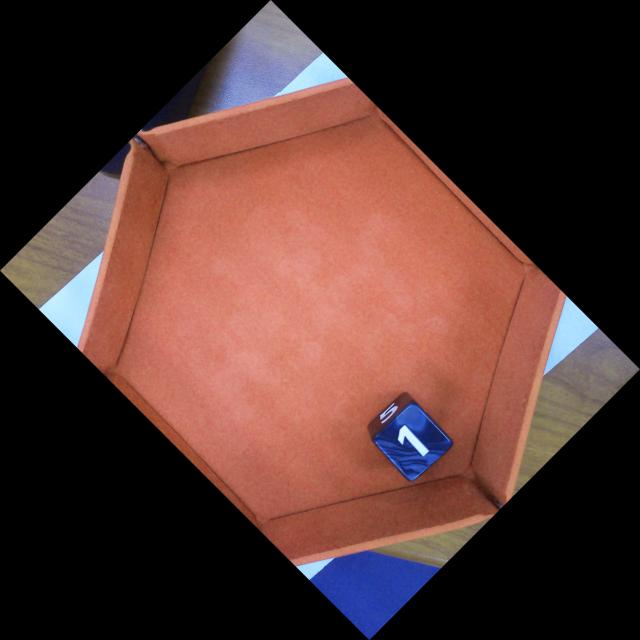dice: (372, 400, 454, 482)
